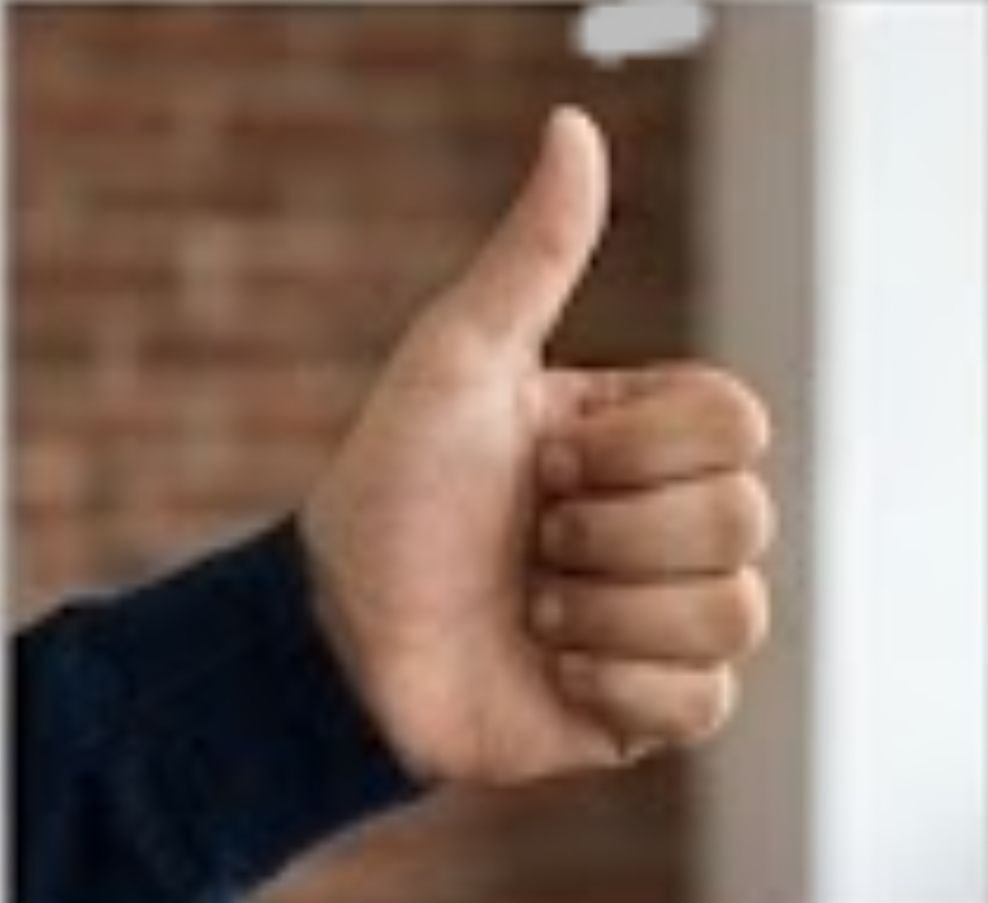Thumbs up: (332, 47, 783, 836)
